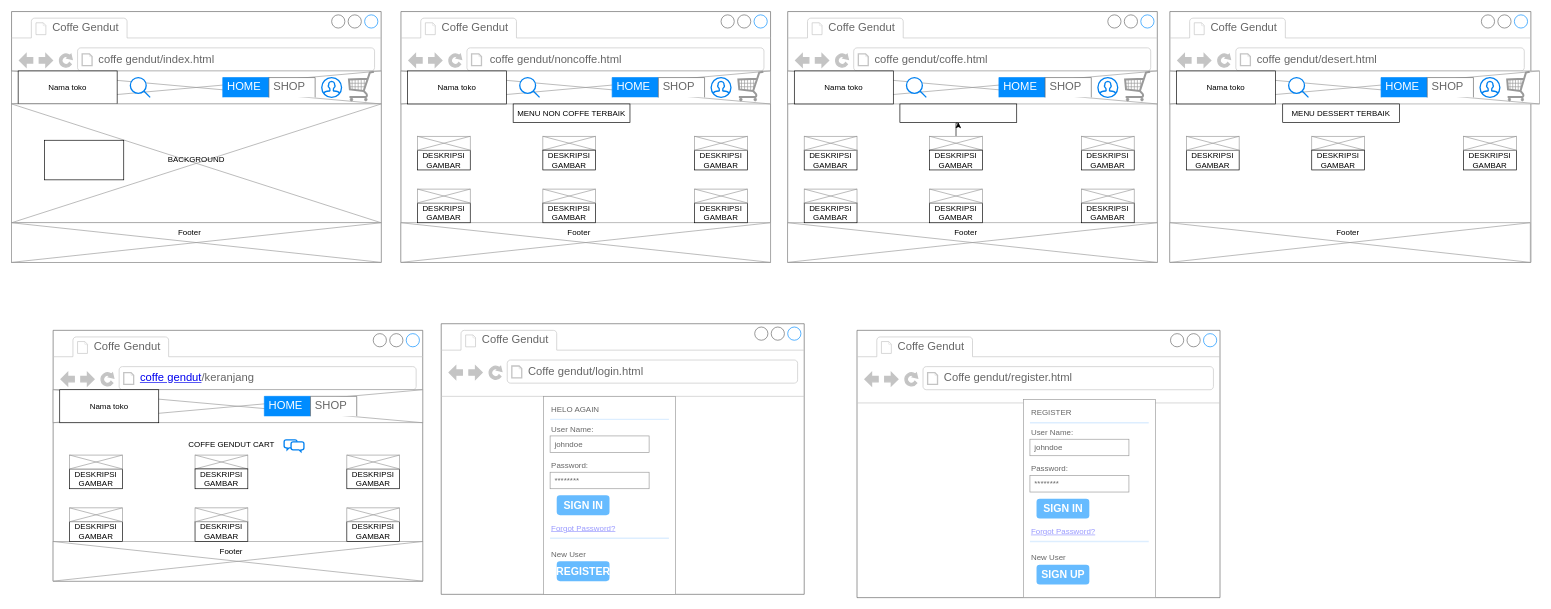
The diagram is 1551 pixels wide and 609 high, and some of its shapes have lost their labels. The shapes that lost their labels are listed below. From the top down, each one's centre as x and y in pixels, then its label:
At point 958,112: "MENU COFFE TERBAIK".
At point 84,160: "ISI KONTEN".
